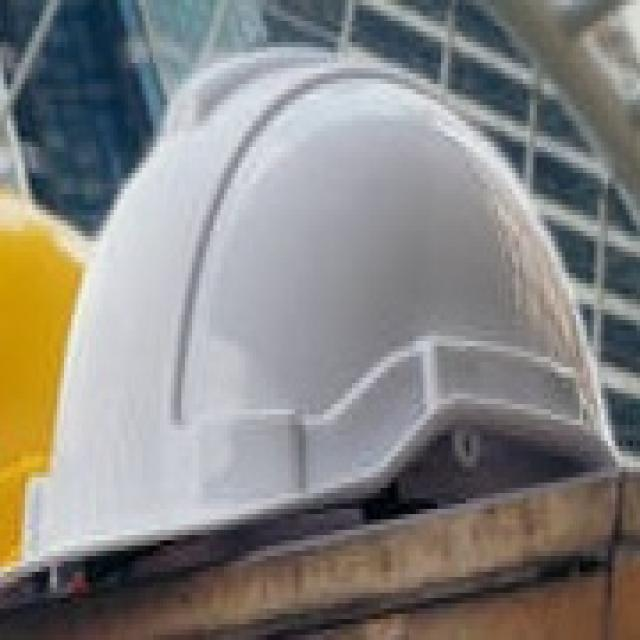safety_helmet: (20, 47, 622, 572)
